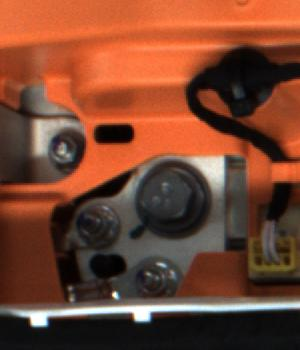nut_b: (133, 161, 217, 235)
screw_s: (40, 132, 83, 172), (72, 205, 118, 241), (132, 258, 171, 298)
